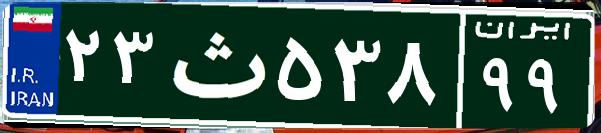2: (57, 26, 110, 107)
3: (330, 28, 385, 110), (110, 28, 158, 105)
5: (273, 28, 330, 110)
8: (385, 28, 445, 110)
9: (475, 38, 525, 113), (525, 38, 570, 115)
ث: (158, 15, 273, 115)
